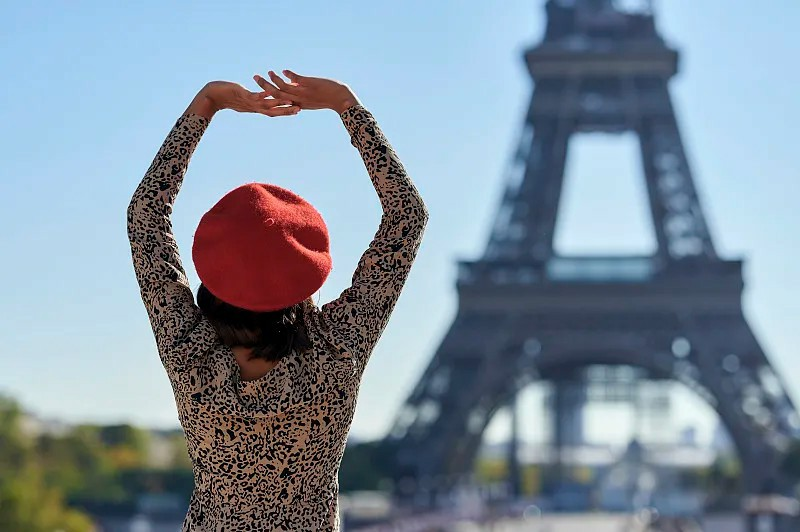Eiffel: (368, 1, 800, 488)
